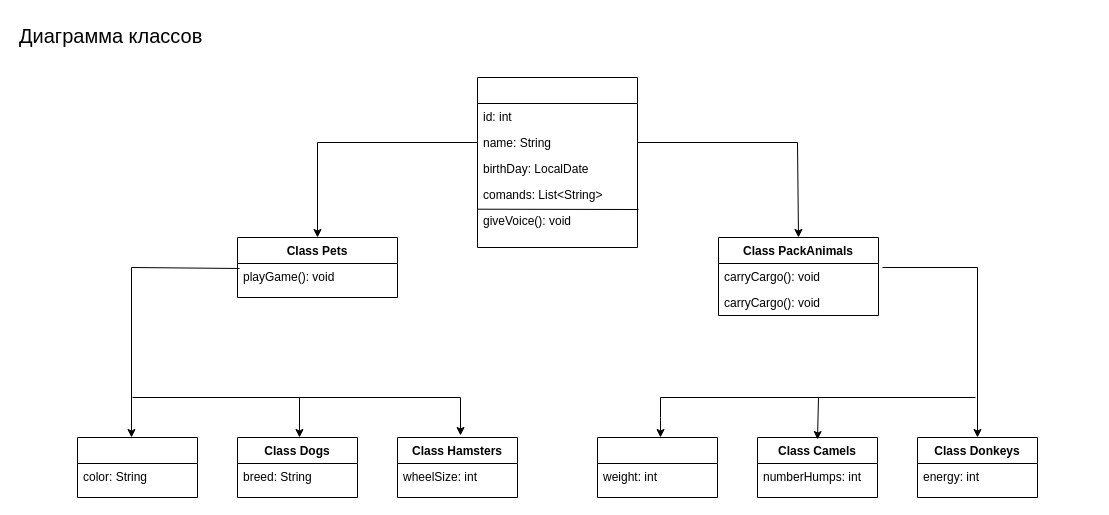
The diagram is 1109 pixels wide and 515 high, and some of its shapes have lost their labels. Here are the shapes that lost their labels. From the top down, the box of each, then its label:
(476, 76, 638, 248): Class Animals
(76, 436, 198, 498): Class Cat
(596, 436, 718, 498): Class Horses
